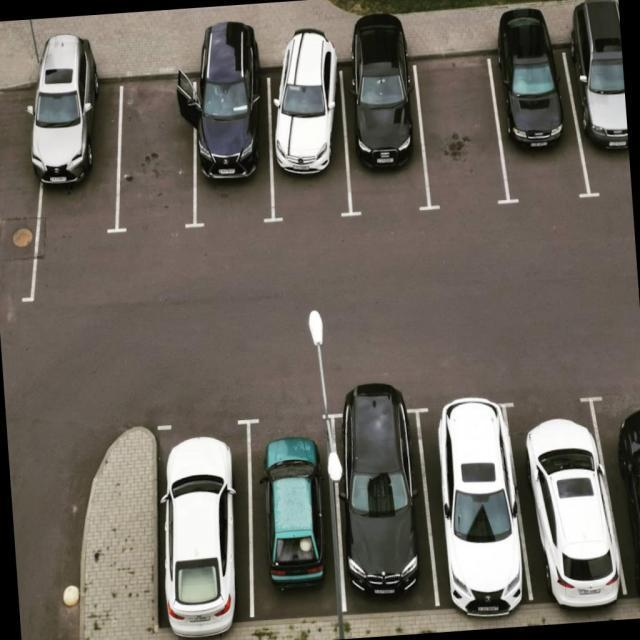car: (144, 410, 256, 634), (512, 379, 619, 612), (240, 407, 348, 627), (330, 394, 432, 614), (424, 390, 520, 613), (492, 35, 584, 203), (37, 67, 122, 241), (182, 66, 272, 229), (262, 63, 351, 226), (338, 60, 426, 220), (590, 390, 640, 610), (571, 28, 632, 195)
free: (108, 70, 198, 236), (417, 44, 502, 210)
